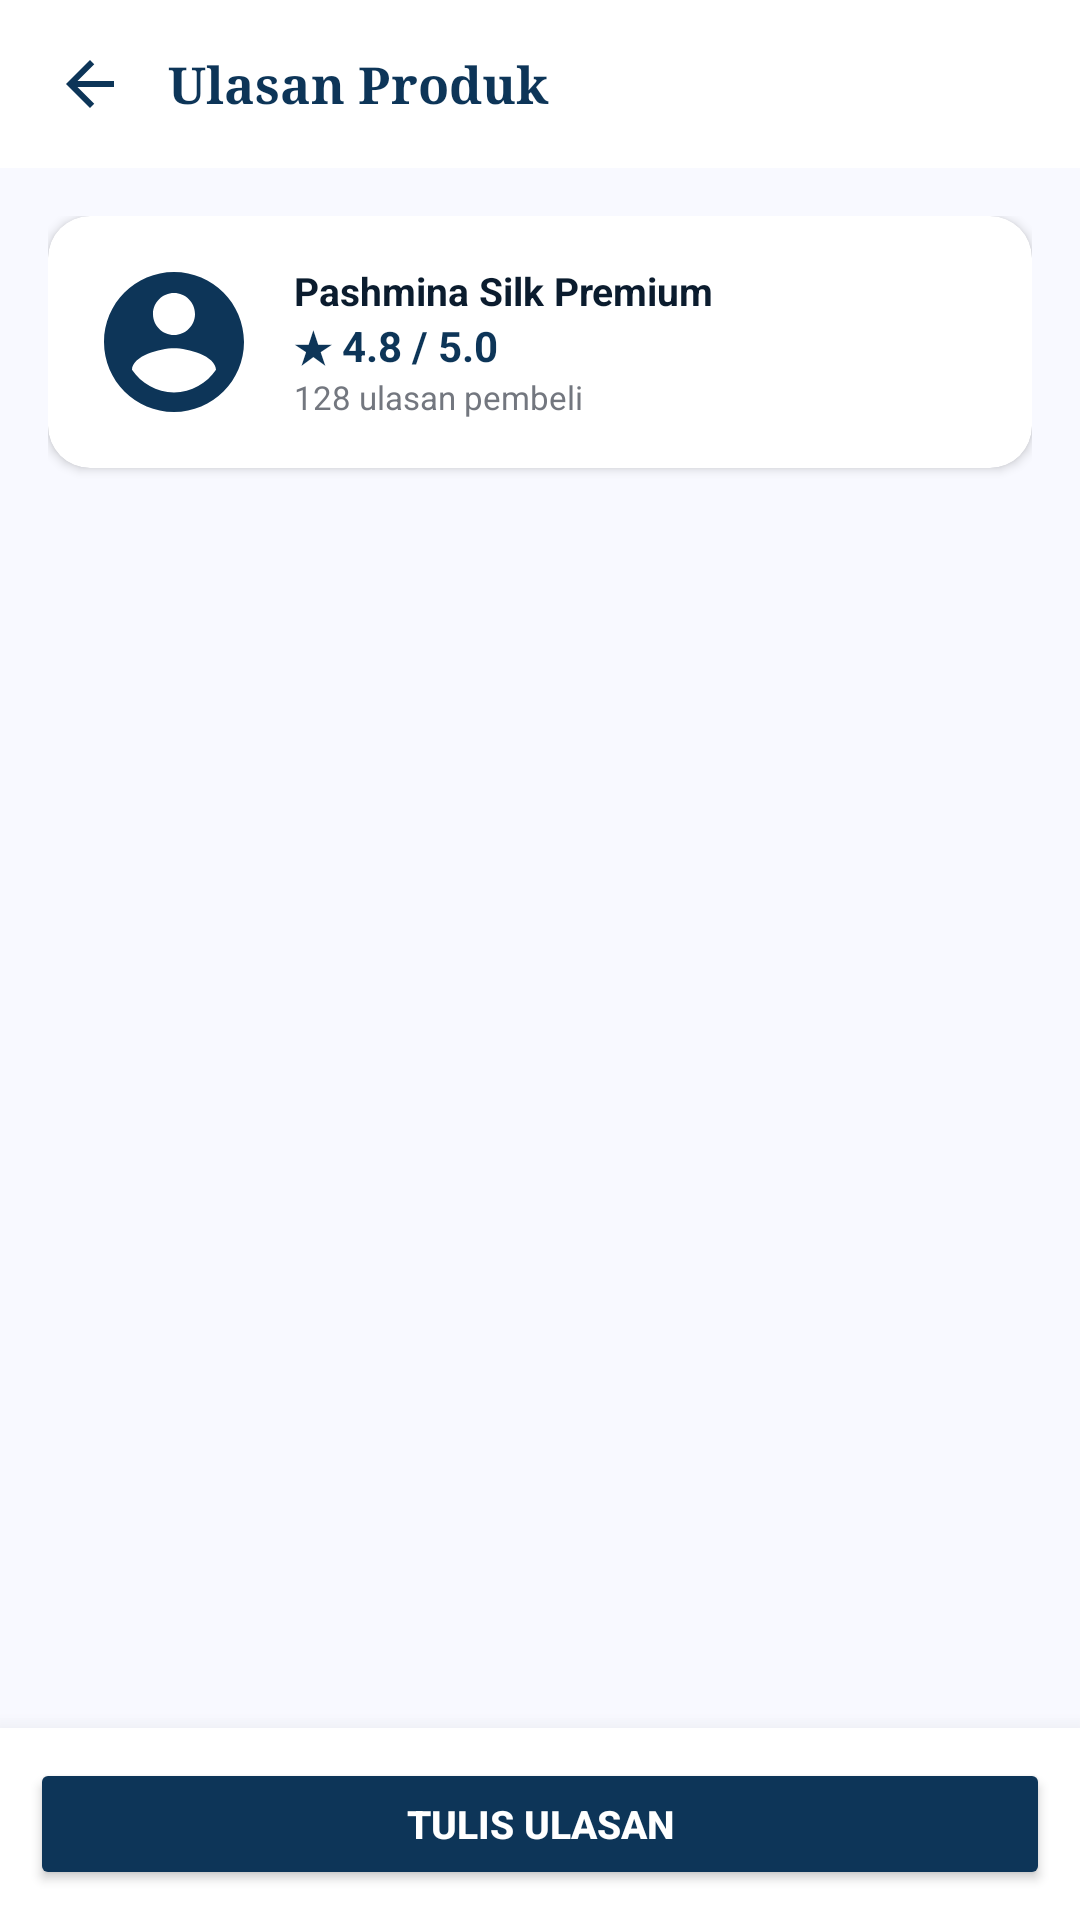

Icon bounding boxes for this 1080×1920 phone screenshot, format (x1, y1, x2, y2):
Back: (66, 60, 114, 108)
